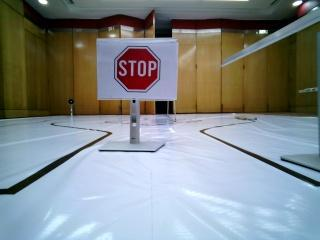stop: (97, 38, 175, 104)
